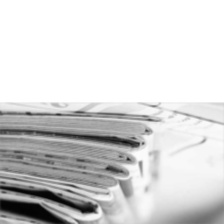news_paper: (0, 113, 167, 223)
